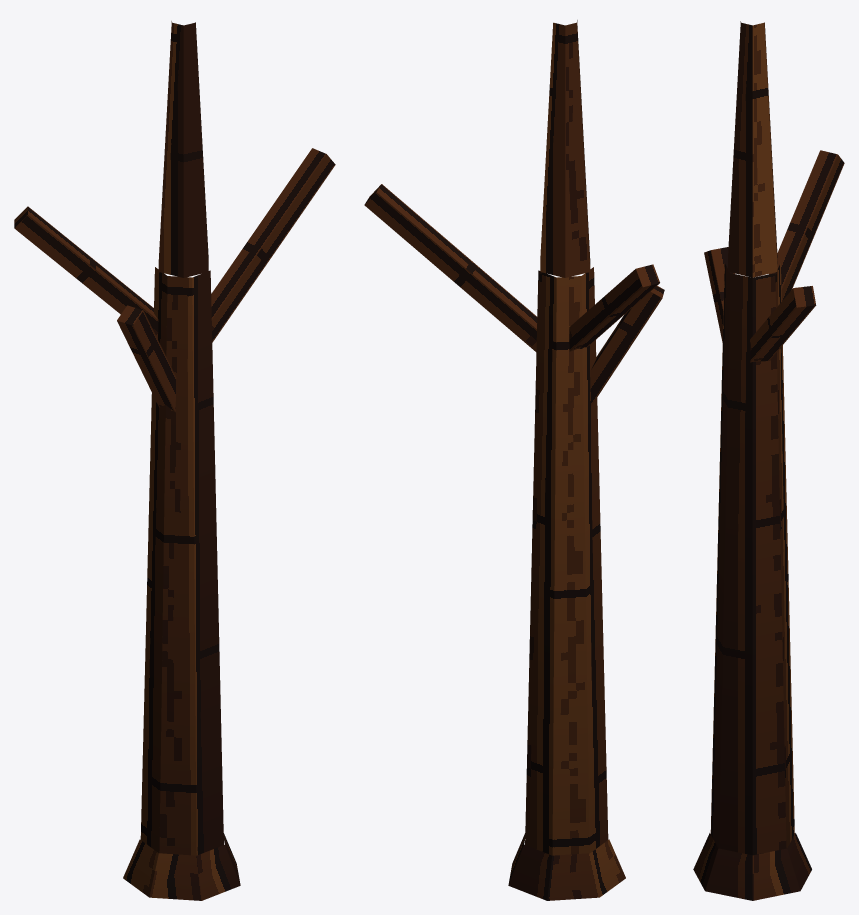
File: birch_3_trunk.glb
The picture shows the model from 3 angles, left to right: view 1: azimuth 30°, elevation 25°; view 2: azimuth 150°, elevation 25°; view 3: azimuth 270°, elevation 25°; orthographic projection.
Visible parts, largest first — view 1: birch_3_trunk; view 2: birch_3_trunk; view 3: birch_3_trunk.
Boxes of the visible parts, x1,y1,x2,y2 form: birch_3_trunk: (14,21,335,900); birch_3_trunk: (364,20,664,900); birch_3_trunk: (693,21,844,900).
Bounding box in the file's own units: 2.08 × 5.57 × 0.8931.
1 material, 1 textured.
